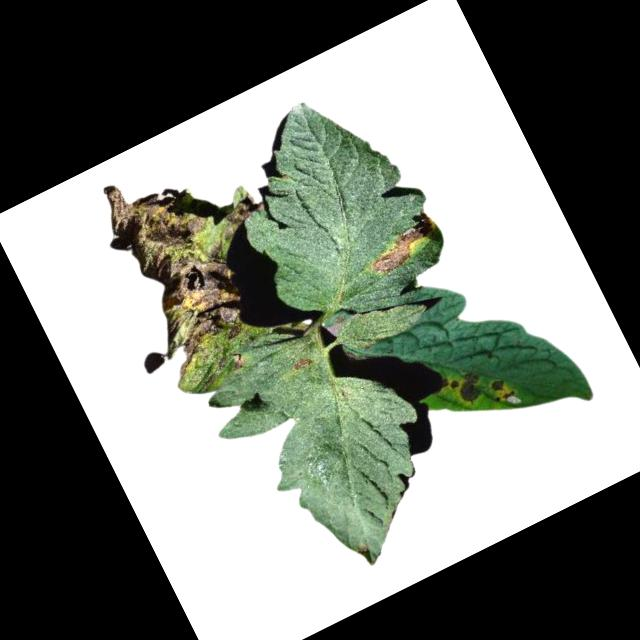Early_blight: (86, 125, 328, 400), (358, 207, 445, 277), (441, 365, 486, 408), (484, 371, 517, 407), (288, 350, 315, 374)
